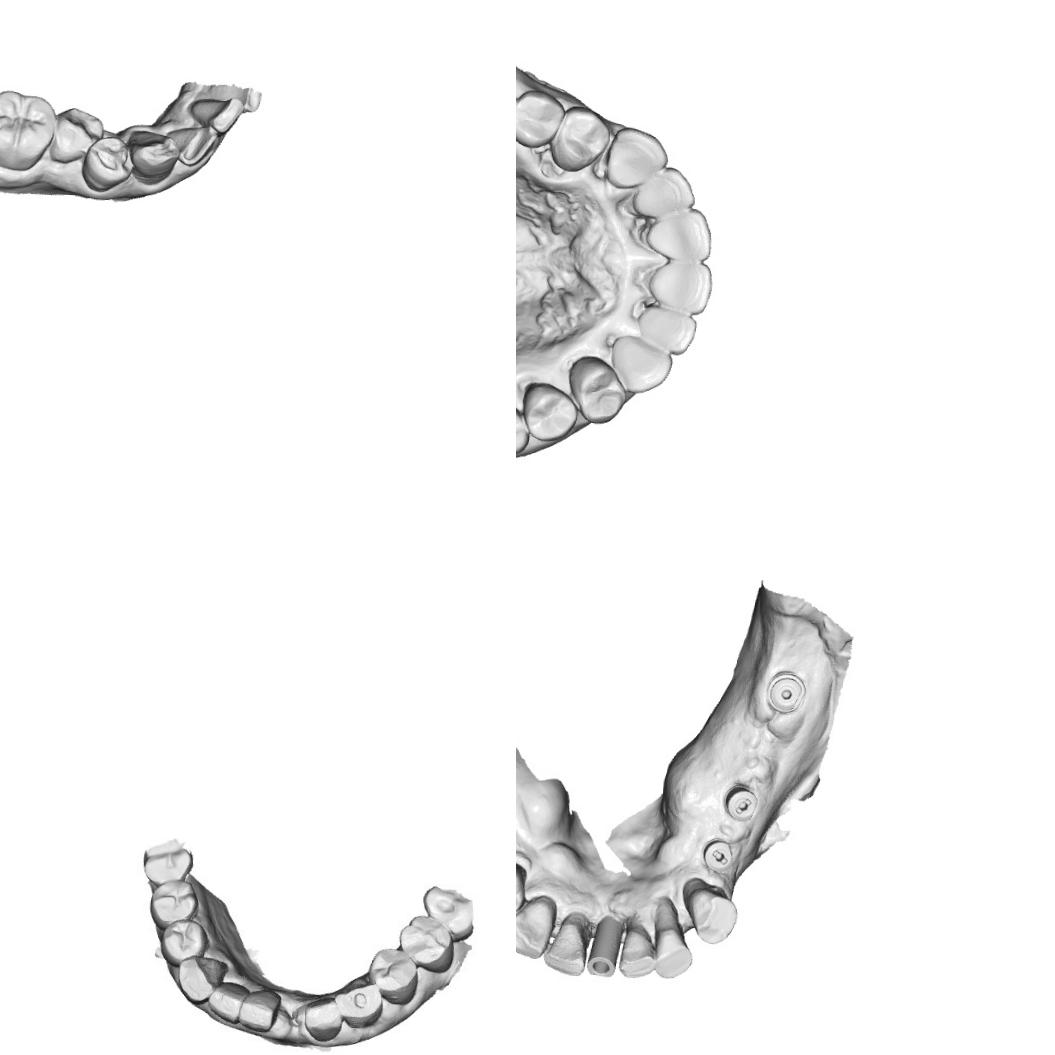canine: (602, 122, 670, 190), (605, 331, 674, 397), (683, 886, 740, 948), (125, 127, 178, 187), (336, 977, 388, 1029), (516, 894, 554, 961), (174, 956, 223, 1003)
implant: (584, 917, 621, 982), (764, 668, 808, 714)
implant_minus: (697, 834, 737, 874), (720, 784, 757, 822)
incisor: (640, 256, 716, 316), (640, 204, 714, 264), (630, 162, 700, 222), (634, 305, 702, 358), (540, 920, 586, 977), (651, 923, 696, 981), (163, 122, 219, 168), (299, 994, 346, 1044), (188, 94, 246, 134), (617, 926, 657, 982), (241, 985, 284, 1034), (210, 978, 248, 1016), (211, 85, 262, 112)
molar: (0, 87, 58, 173)
premolar: (546, 102, 614, 174), (564, 352, 628, 426), (517, 376, 580, 444), (394, 910, 456, 973), (48, 104, 106, 166), (78, 133, 136, 194), (516, 83, 566, 151), (364, 944, 419, 1002), (146, 877, 201, 930), (158, 919, 208, 963), (516, 859, 530, 920)
